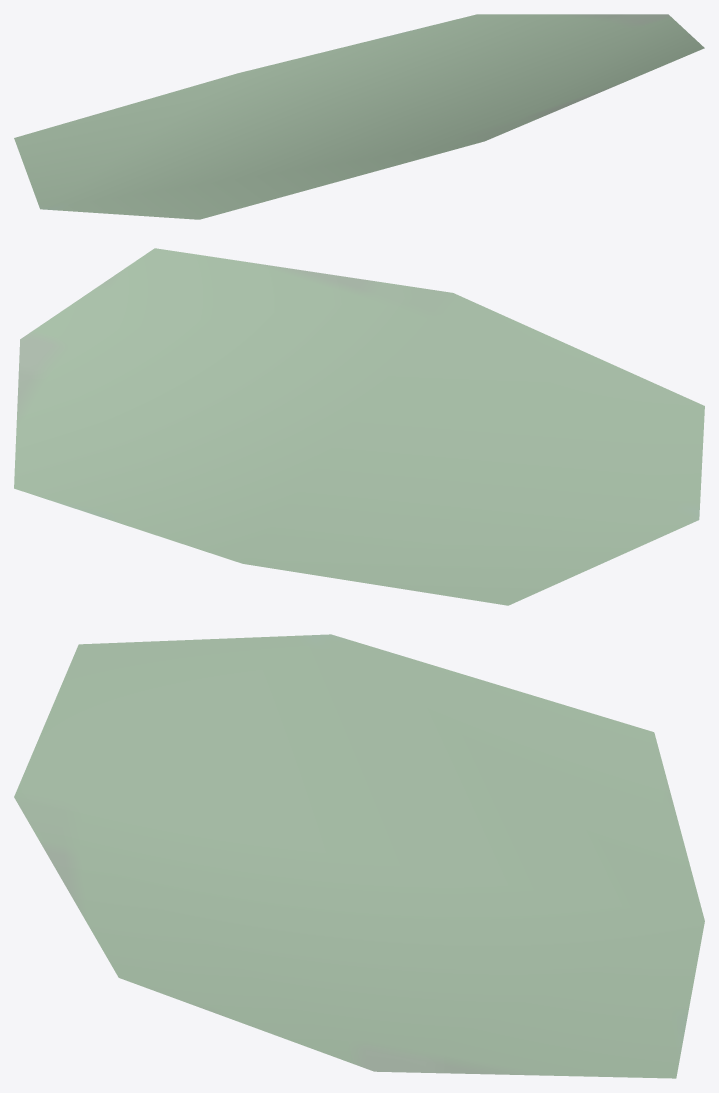
File: TROLLHOLE02_HOLECAP25.fbx
The picture shows the model from 3 angles, top to bottom: view 1: azimuth 30°, elevation 25°; view 2: azimuth 150°, elevation 25°; view 3: azimuth 270°, elevation 25°; orthographic projection. The views are drawn at different scales.
Parts seen in each view (by area): view 1: TROLLHOLE02_HOLECAP25; view 2: TROLLHOLE02_HOLECAP25; view 3: TROLLHOLE02_HOLECAP25.
Boxes of the visible parts, x1,y1,x2,y2 form: TROLLHOLE02_HOLECAP25: (14, 14, 704, 219); TROLLHOLE02_HOLECAP25: (14, 248, 704, 605); TROLLHOLE02_HOLECAP25: (14, 634, 704, 1078).
Bounding box in the file's own units: 30958 × 4502 × 18815.
1 material, 1 textured.
